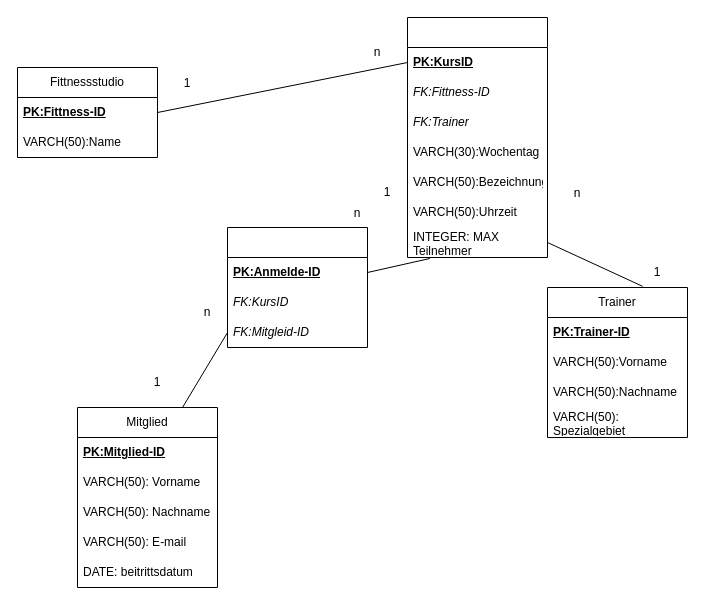
This 705x605 diagram has some shape labels left out. The shapes that lost their labels are listed below. From the top down, each one's box as (x1, y1, x2, y2) in pixels, then its label:
(406, 16, 548, 258): Kurse
(226, 226, 368, 348): Anmeldung
